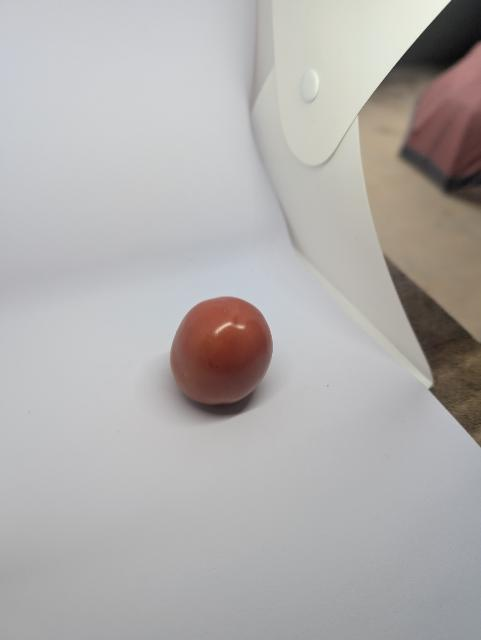red: (165, 283, 285, 427)
